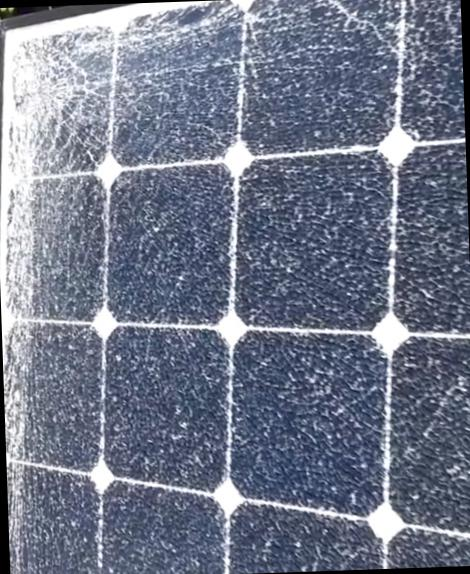Crack: (176, 4, 466, 168), (229, 318, 469, 515), (241, 159, 469, 337), (1, 320, 225, 496), (2, 19, 180, 183), (229, 462, 469, 569), (94, 178, 246, 335), (7, 490, 219, 573), (2, 192, 86, 324)
